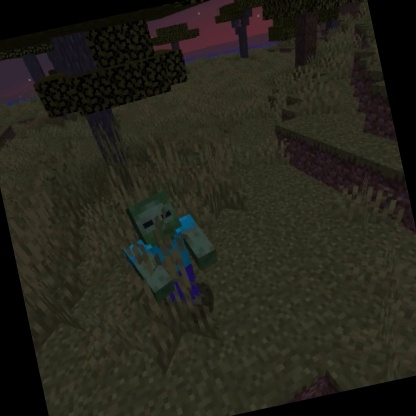zombie: (108, 177, 232, 329)
